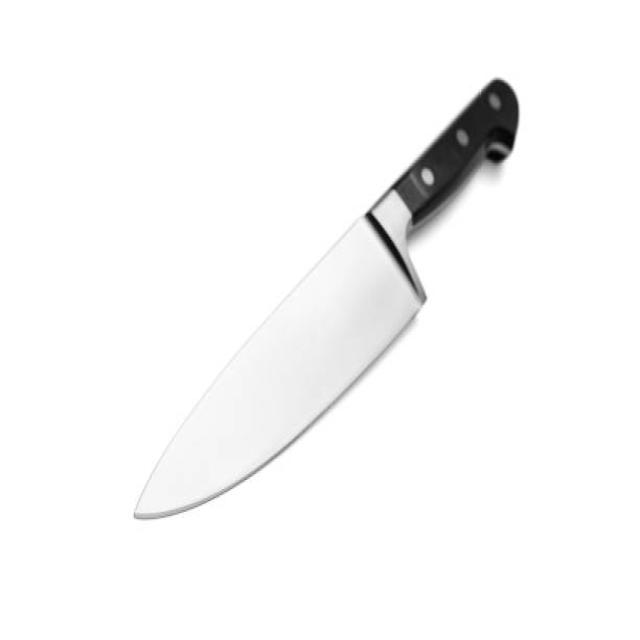knife: (130, 71, 523, 536)
